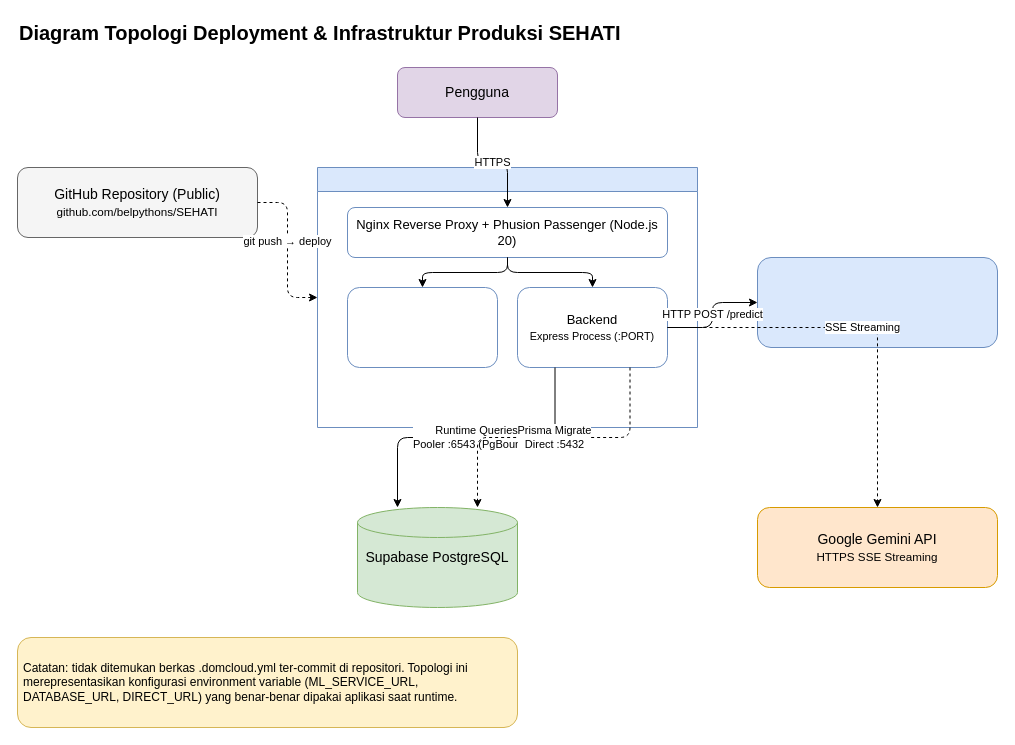
This 1015x745 diagram has some shape labels left out. Here are the shapes that lost their labels. From the top down, the box of each, then its label:
(316, 166, 698, 428): DOMCloud Production Host (sehati.domcloud.dev)
(756, 256, 998, 348): ML Service Process FastAPI (Uvicorn :8000) host via env ML_SERVICE_URL
(346, 286, 498, 368): Frontend Static Build (Vite)
